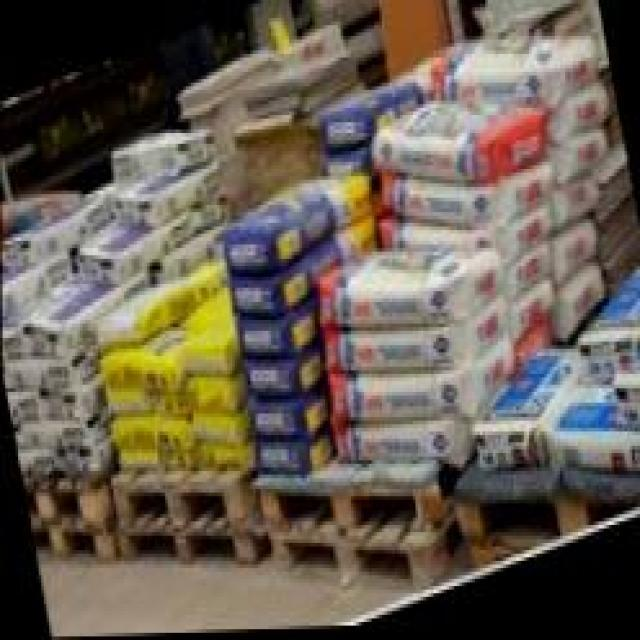gunny_bag: (327, 336, 515, 432), (233, 216, 378, 318), (368, 104, 546, 186), (319, 251, 499, 332), (323, 296, 506, 375), (474, 349, 583, 481), (224, 177, 370, 275), (385, 167, 552, 231), (25, 273, 150, 356), (99, 274, 212, 355), (3, 198, 112, 267), (320, 82, 422, 151), (115, 167, 222, 231), (577, 270, 640, 366), (335, 425, 463, 472), (241, 302, 321, 360), (551, 269, 606, 348), (547, 83, 610, 150), (246, 346, 321, 401), (254, 393, 327, 448), (550, 135, 608, 190), (1, 262, 46, 321), (554, 223, 593, 290), (260, 436, 328, 474), (553, 182, 600, 234), (185, 376, 243, 418), (513, 248, 552, 310), (5, 389, 41, 430), (154, 421, 193, 455), (113, 420, 154, 451), (106, 388, 149, 416)
